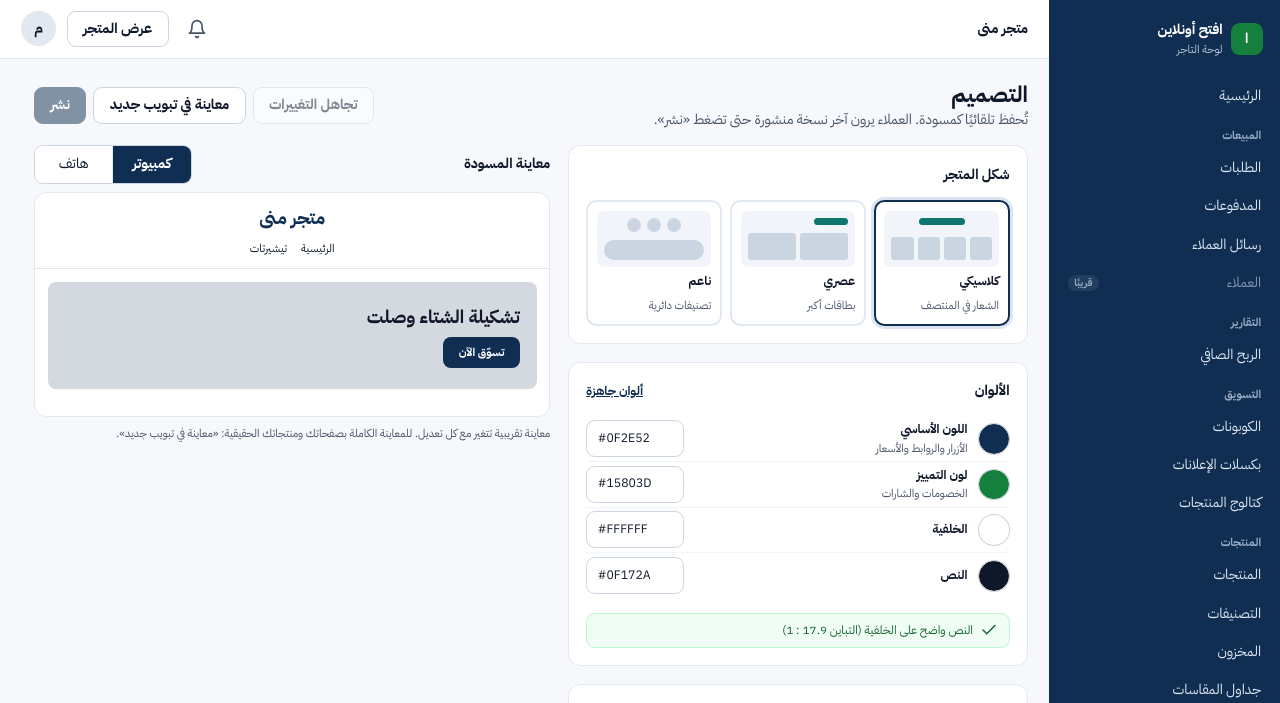
Design › saves edits as a draft, refuses unreadable colours, and publishes over the version read
Check: the heading "التصميم" is shown, box [951, 80, 1028, 109]
Check: the text "تغييرات لم تُنشر" is not shown
Click the button "ناعم تصنيفات دائرية" at x=654, y=263, box [586, 200, 722, 326]
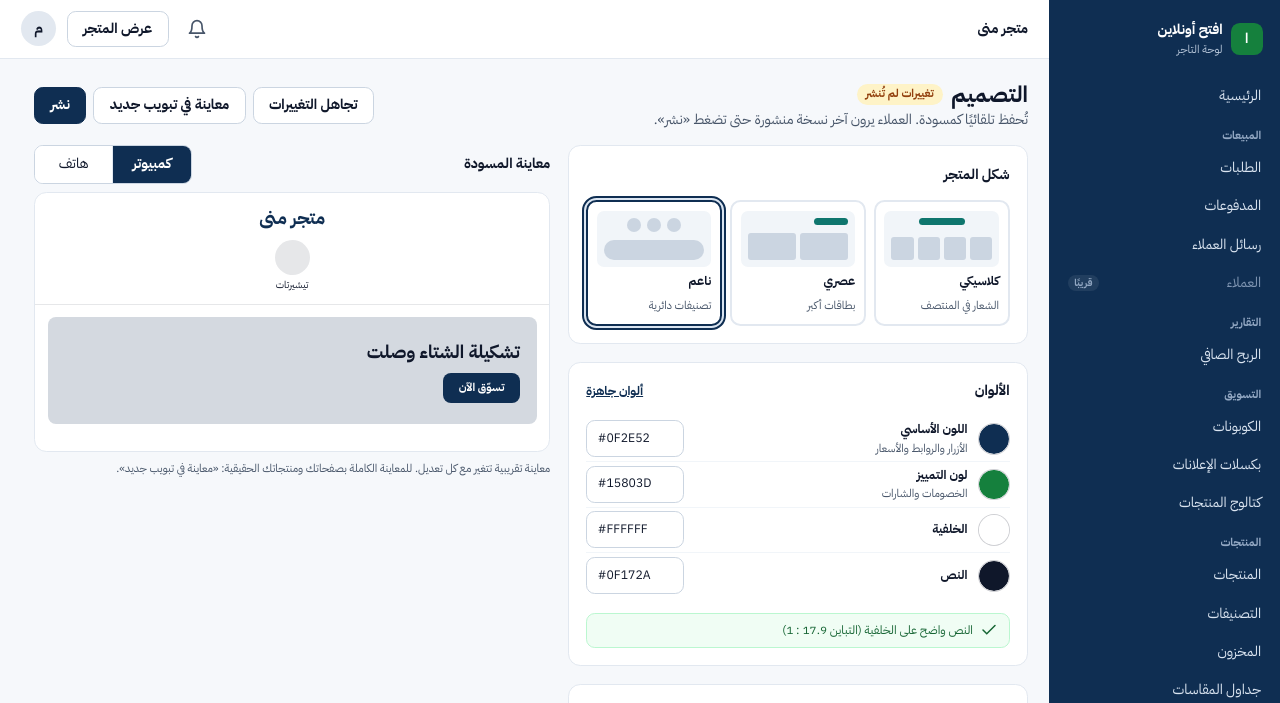
Check: the text "تغييرات لم تُنشر" is shown, box [856, 84, 943, 105]
// text as light as the background: said at once, never sent
Replace the text in the field named "كود النص" with "#FAFAFA" at x=635, y=576, box [586, 557, 684, 594]
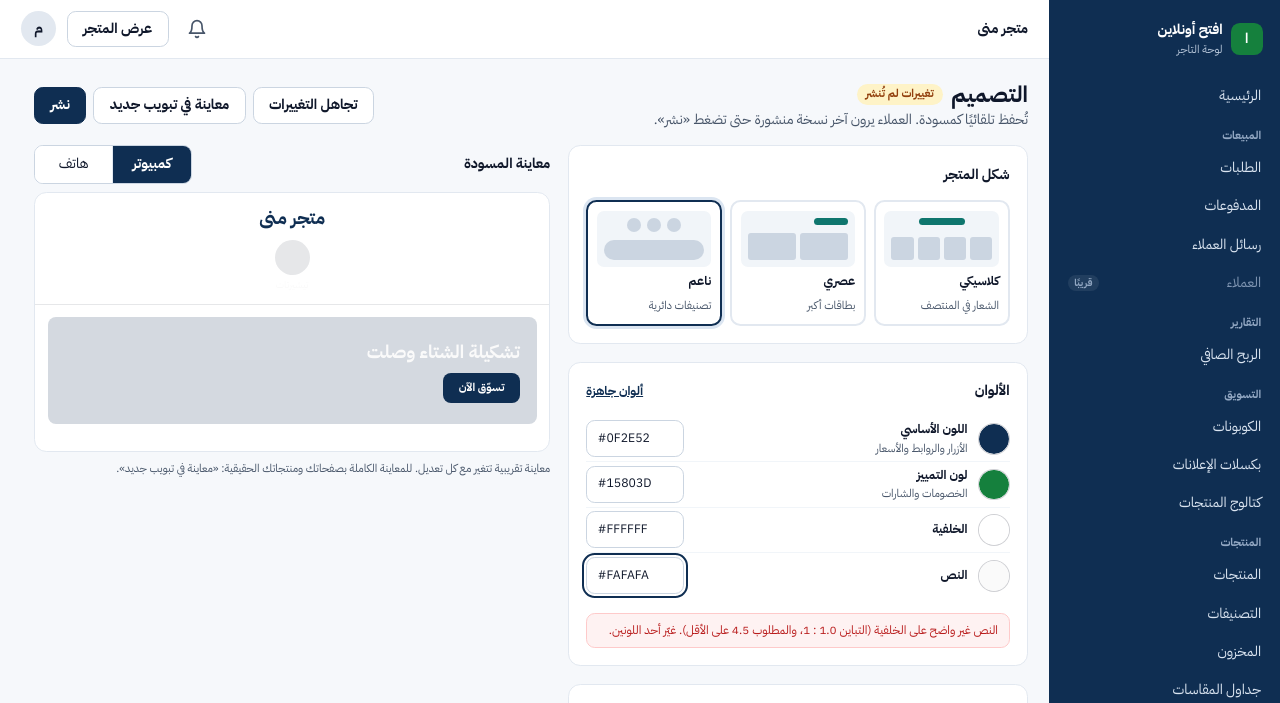
Check: the message shows "النص غير واضح على الخلفية", box [837, 620, 998, 638]
Replace the text in the field named "كود النص" with "#0F172A" at x=635, y=576, box [586, 557, 684, 594]
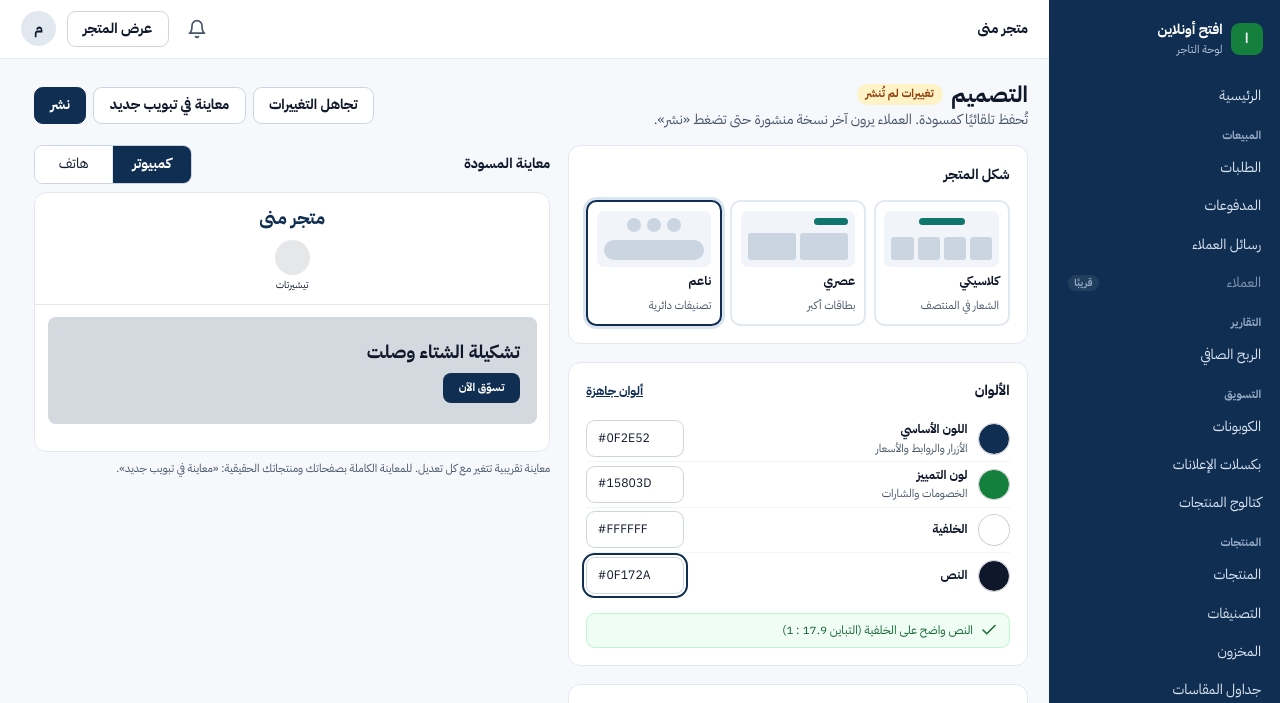
Click the button "نشر" at x=60, y=106, box [34, 87, 86, 124]
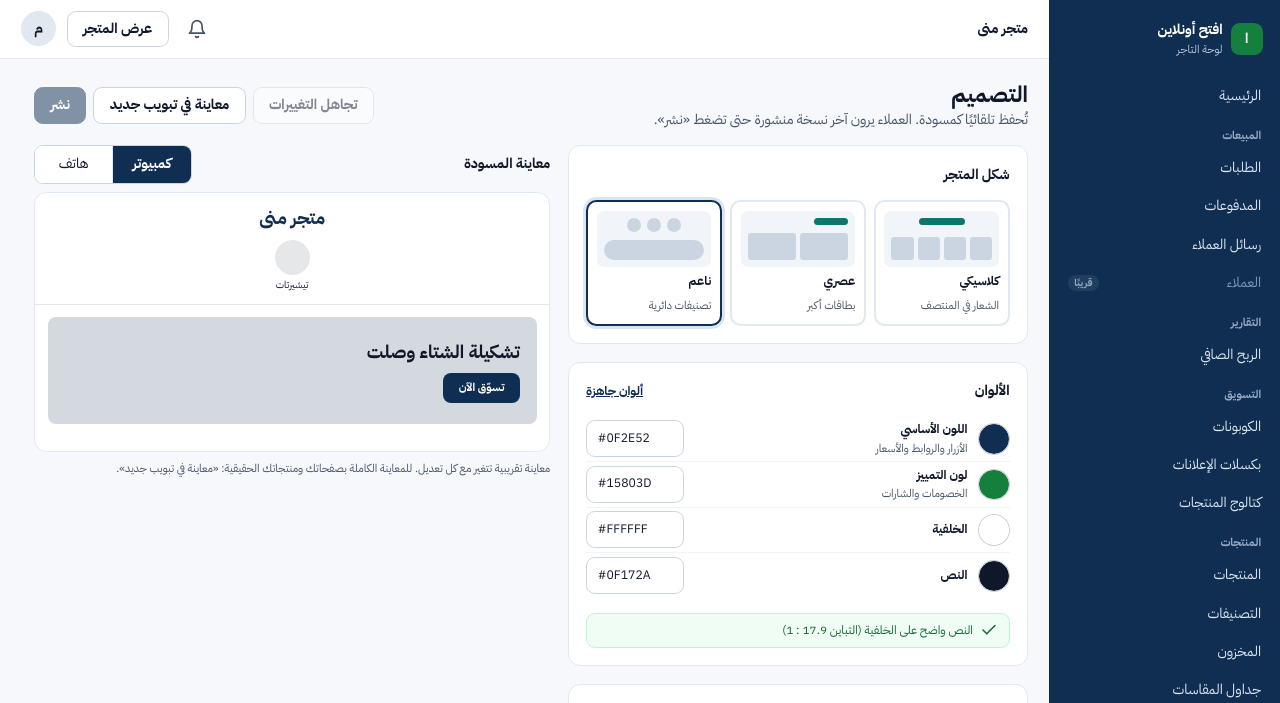
Check: the text "تغييرات لم تُنشر" is gone
